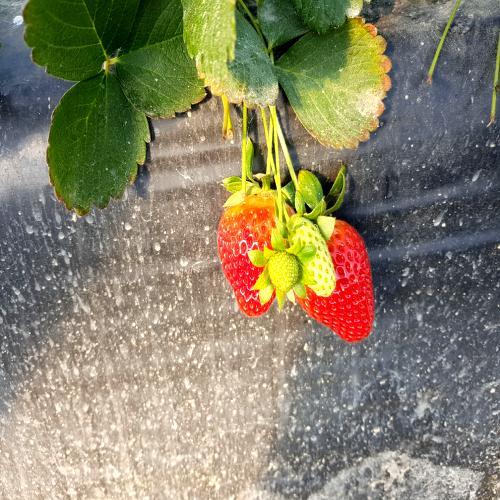ripe: (300, 192, 380, 361)
unripe: (216, 172, 290, 340)
